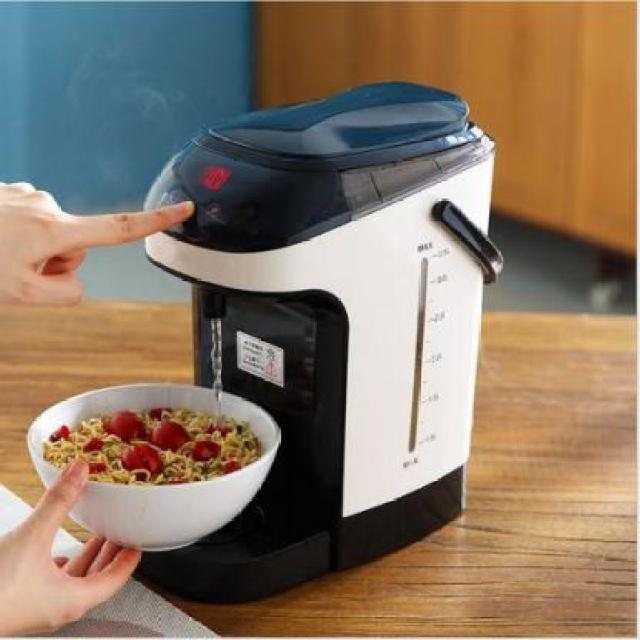cooler: (126, 72, 499, 606)
